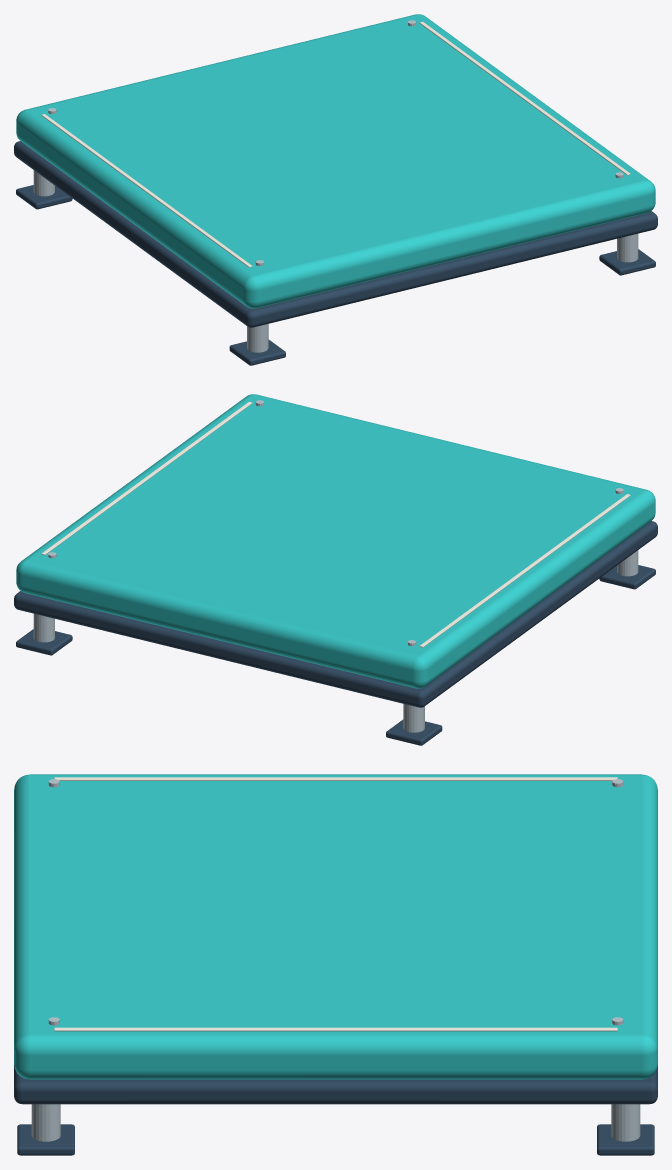
The model's file is party-obstacle-course-party-obstacle-course-platform-s-f258befb__28925.glb.
The picture shows the model from 3 angles, top to bottom: view 1: azimuth 30°, elevation 25°; view 2: azimuth 150°, elevation 25°; view 3: azimuth 270°, elevation 25°; orthographic projection. The views are drawn at different scales.
Visible parts, largest first — view 1: party-obstacle-course-platform-straight; view 2: party-obstacle-course-platform-straight; view 3: party-obstacle-course-platform-straight.
Boxes of the visible parts, x1=… form: party-obstacle-course-platform-straight: x1=14, y1=14, x2=657, y2=365; party-obstacle-course-platform-straight: x1=14, y1=394, x2=657, y2=745; party-obstacle-course-platform-straight: x1=14, y1=774, x2=657, y2=1155.
Bounding box in the file's own units: 4 × 0.832 × 4.
